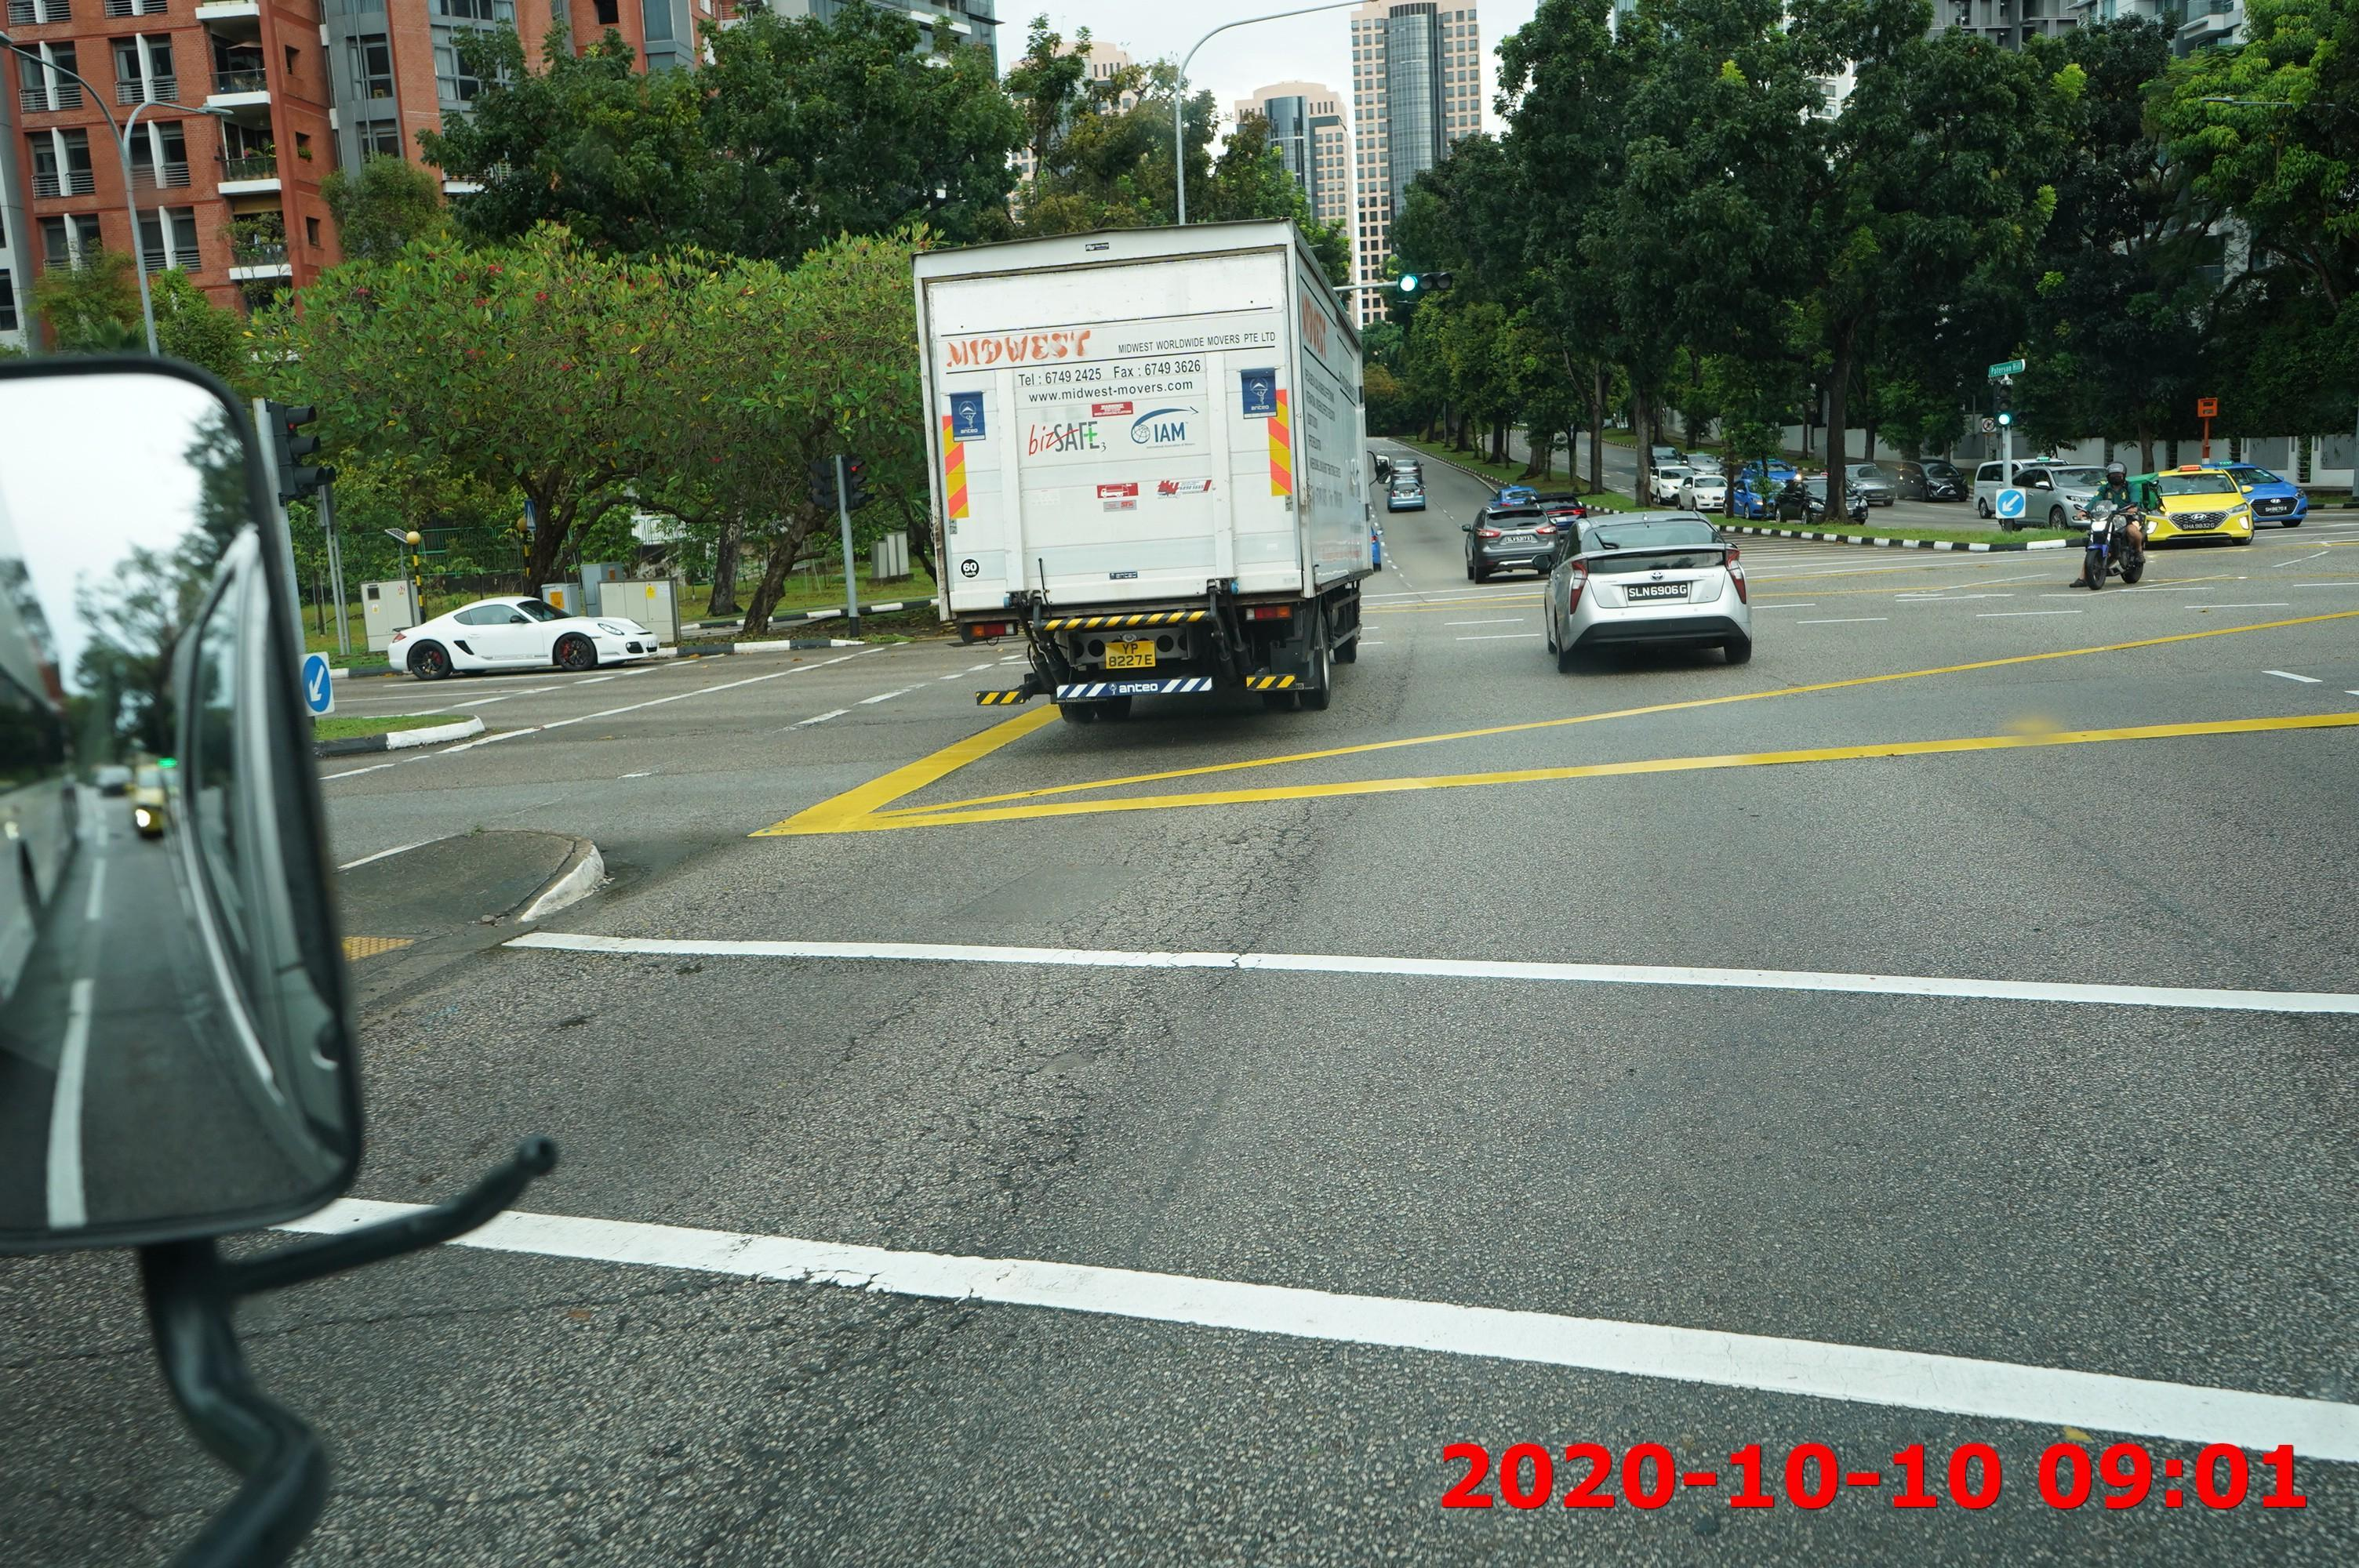alligator crack: (812, 980, 1213, 1257)
